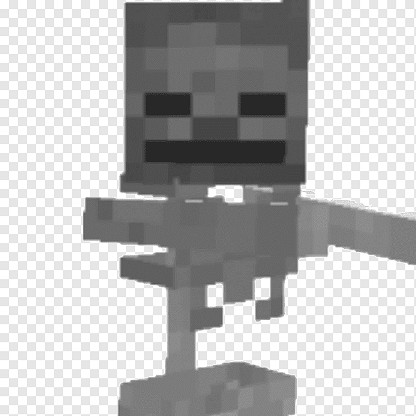skeleton: (93, 3, 335, 270)
